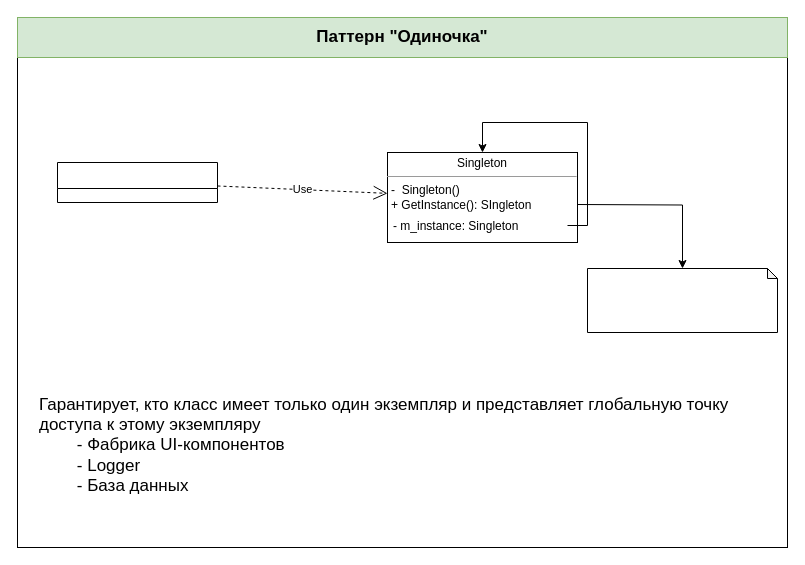
This 805x565 diagram has some shape labels left out. The shapes that lost their labels are listed below. From the top down, each one's box as (x1, y1, x2, y2) in pixels, then its label:
(56, 162, 218, 202): Client
(586, 268, 778, 332): if (instance ==null) { instance = new Singleton() } return instance
